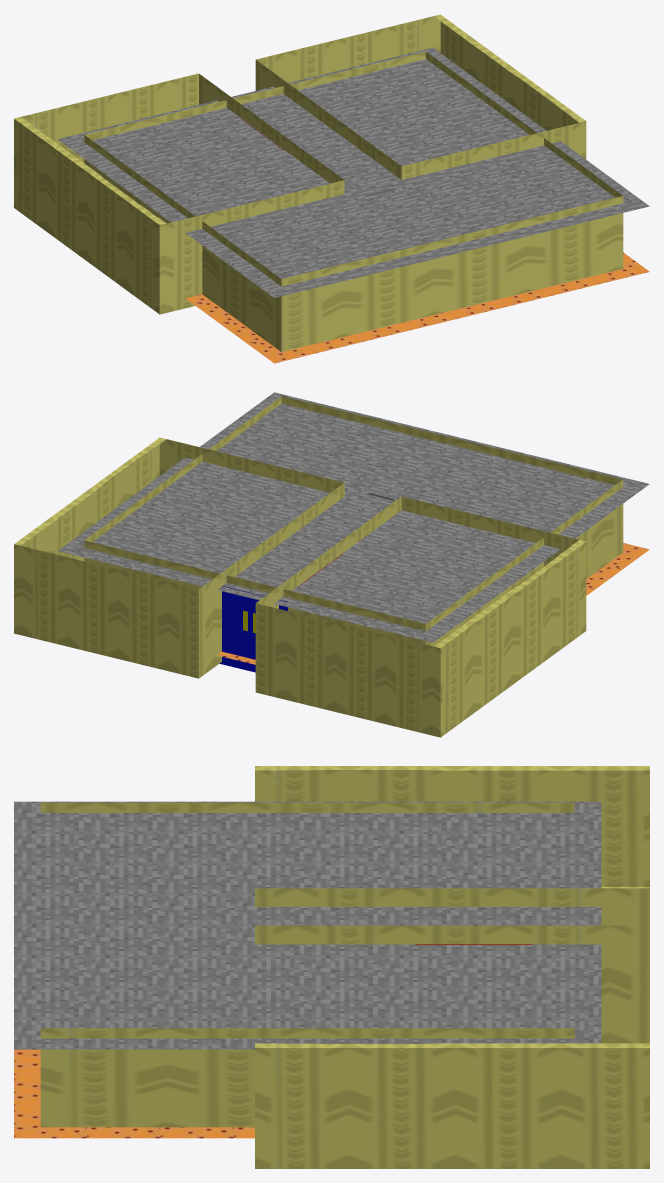
File: haha baldi.obj
3 views of the same model, one above another, from view 1: azimuth 30°, elevation 25°; view 2: azimuth 150°, elevation 25°; view 3: azimuth 270°, elevation 25° (orthographic). The views are drawn at different scales.
Parts seen in each view (by area): view 1: Cube.002; view 2: Cube.002; view 3: Cube.002.
Boxes of the visible parts, x1=… form: Cube.002: x1=14, y1=14, x2=649, y2=363; Cube.002: x1=14, y1=392, x2=649, y2=737; Cube.002: x1=14, y1=766, x2=649, y2=1168.
Bounding box in the file's own units: 11.36 × 2.34 × 10.83.
1 material, 1 textured.
